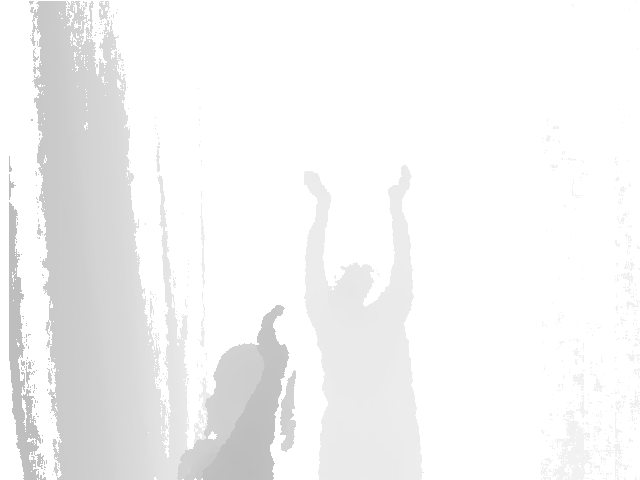hand: (256, 305, 290, 374), (388, 166, 412, 207), (304, 170, 332, 205)
head: (203, 343, 297, 451), (335, 263, 379, 310)
person: (303, 166, 425, 480), (174, 305, 297, 480)
